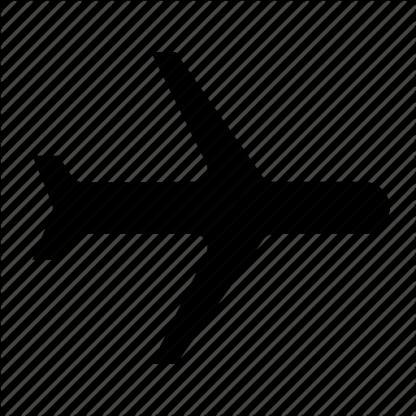CIV_Plane: (19, 47, 396, 368)
